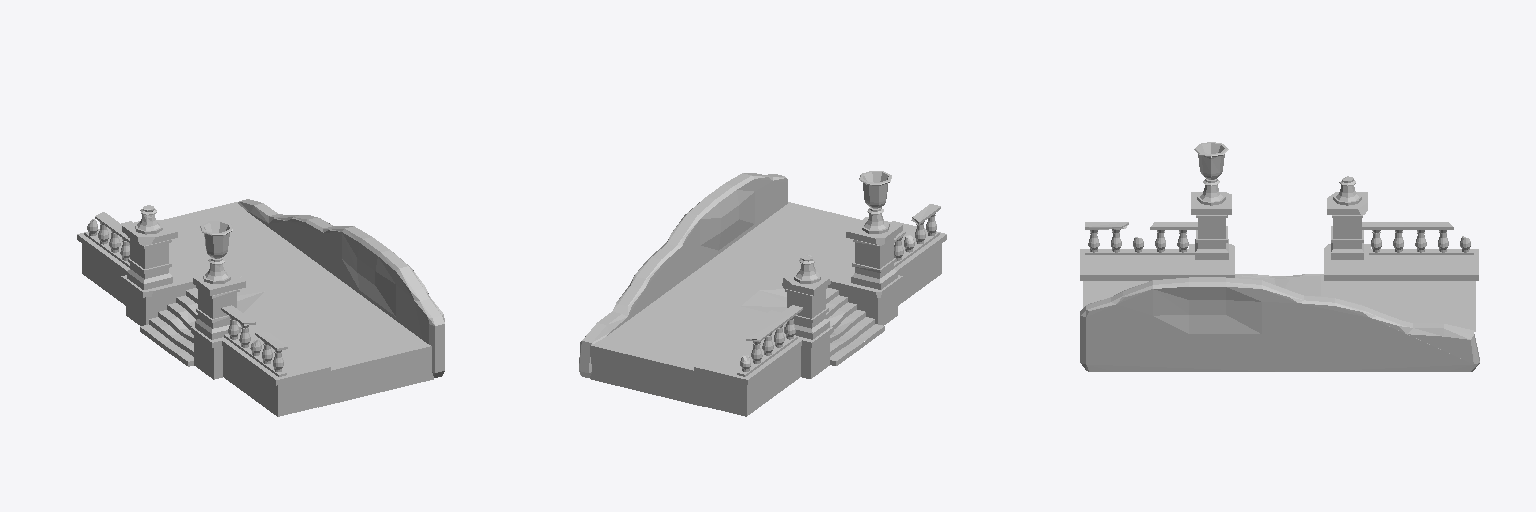
File: platform LOD1.obj
The picture shows the model from 3 angles: view 1: azimuth 30°, elevation 25°; view 2: azimuth 150°, elevation 25°; view 3: azimuth 270°, elevation 25°; orthographic projection.
Visible parts, largest first — view 1: defaultMaterial.001_defaultMaterial.001; view 2: defaultMaterial.001_defaultMaterial.001; view 3: defaultMaterial.001_defaultMaterial.001.
Boxes of the visible parts, <box> form: defaultMaterial.001_defaultMaterial.001: <box>77,199,444,416</box>; defaultMaterial.001_defaultMaterial.001: <box>579,171,946,416</box>; defaultMaterial.001_defaultMaterial.001: <box>1080,142,1479,371</box>.
Size of the model in its own units: 1.09 by 0.8049 by 2.04.